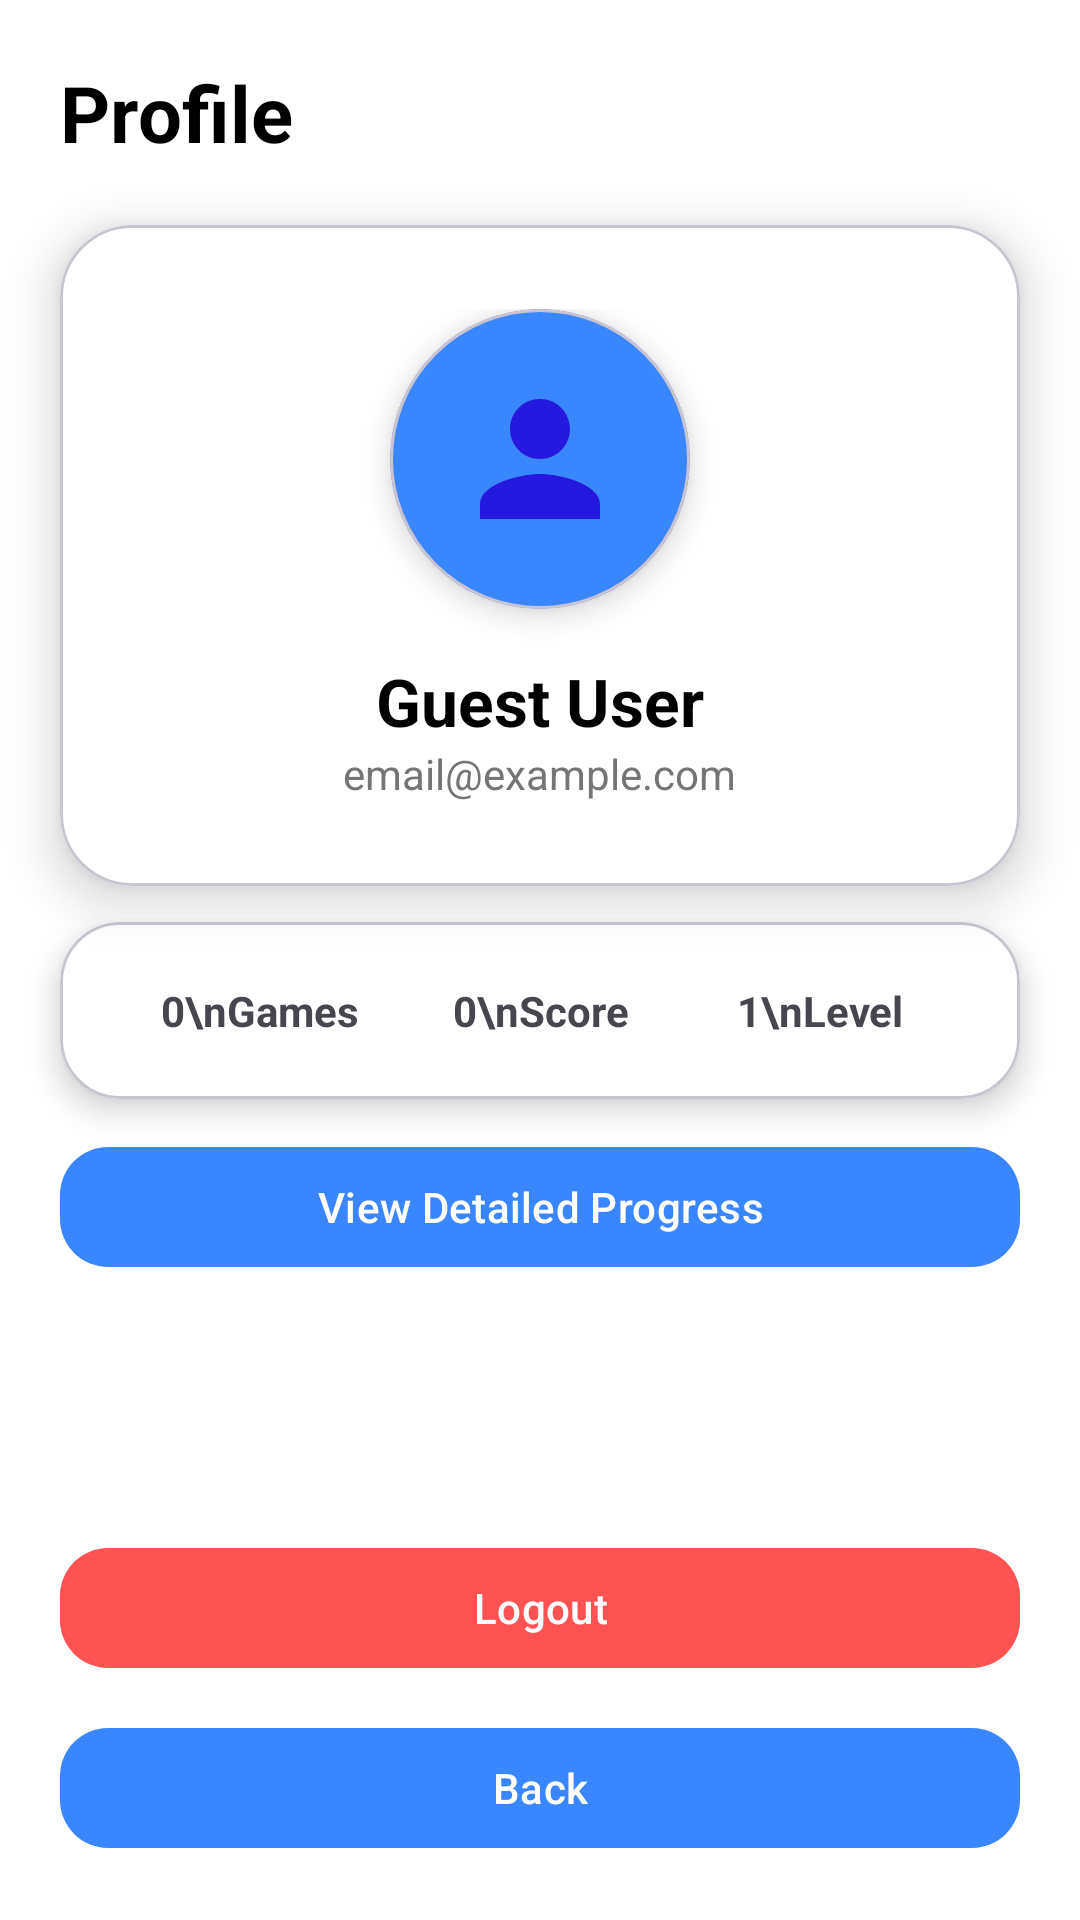

Named icons in this screenshot (1080 x 1920) and their bounding boxes, detection(x1, y1, x2, y2):
person: detection(390, 309, 690, 609)
